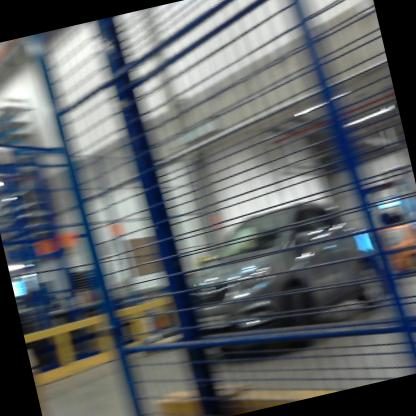forklift: (363, 183, 416, 278)
